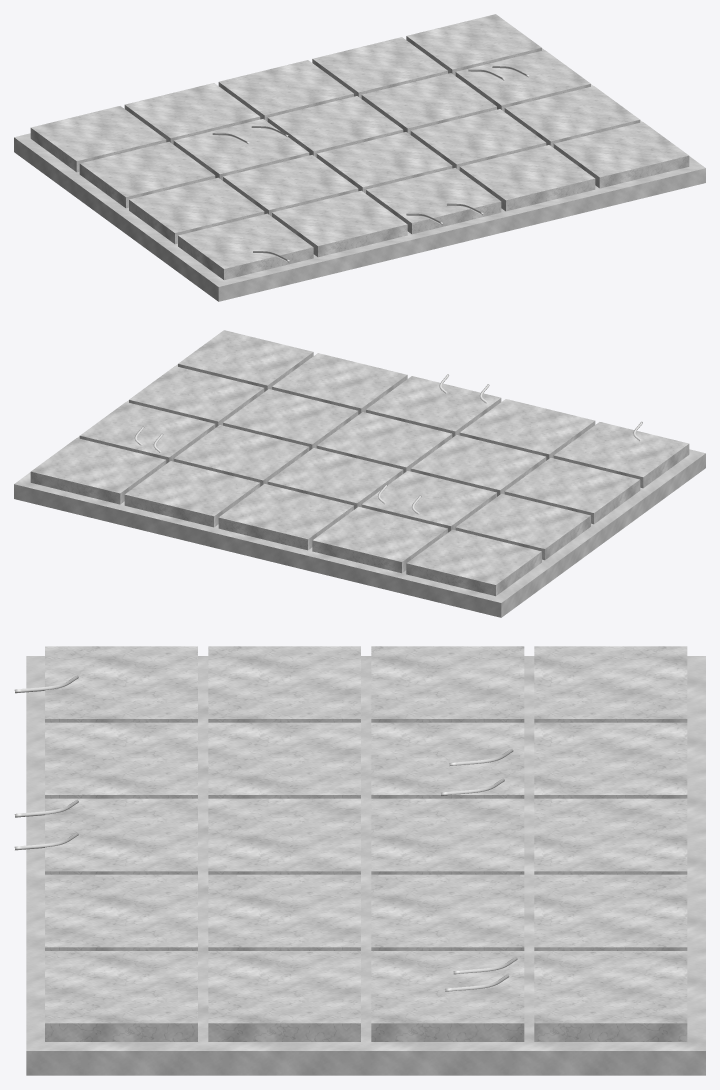
Rendered from lane_tile.gltf.
The picture shows the model from 3 angles, top to bottom: view 1: azimuth 30°, elevation 25°; view 2: azimuth 150°, elevation 25°; view 3: azimuth 270°, elevation 25°; orthographic projection. The views are drawn at different scales.
Visible parts, largest first — view 1: lane_tile; view 2: lane_tile; view 3: lane_tile.
Boxes of the visible parts, bbox=[...] form: lane_tile: bbox=[14, 14, 705, 301]; lane_tile: bbox=[14, 330, 705, 617]; lane_tile: bbox=[14, 646, 705, 1075].
Bounding box in the file's own units: 5.5 × 0.2979 × 4.07.
3 materials, 3 textured.
